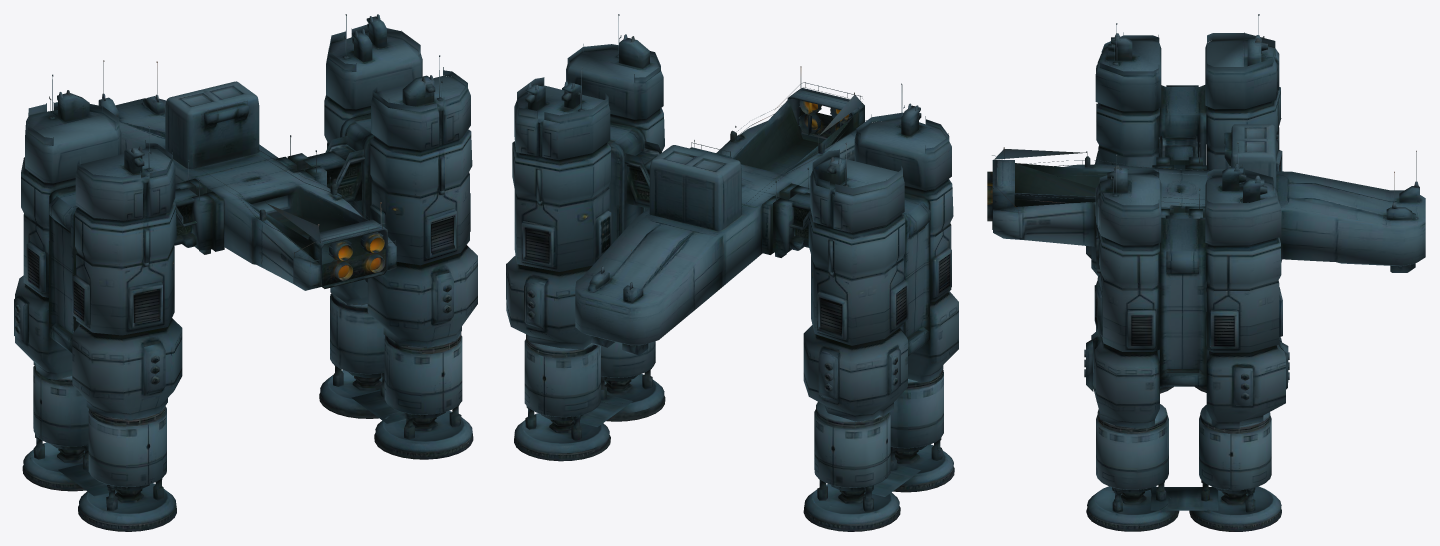
File: selected.fbx
3 views of the same model, side by side, from view 1: azimuth 30°, elevation 25°; view 2: azimuth 150°, elevation 25°; view 3: azimuth 270°, elevation 25° (orthographic). The views are drawn at different scales.
Visible parts, largest first — view 1: tripo_node_5ce6d6f5-4360-4b3c-9666-076fd8dcae07; view 2: tripo_node_5ce6d6f5-4360-4b3c-9666-076fd8dcae07; view 3: tripo_node_5ce6d6f5-4360-4b3c-9666-076fd8dcae07.
Part boxes in pixels (x1,y1,x2,y2): tripo_node_5ce6d6f5-4360-4b3c-9666-076fd8dcae07: [14, 14, 477, 531]; tripo_node_5ce6d6f5-4360-4b3c-9666-076fd8dcae07: [506, 14, 958, 531]; tripo_node_5ce6d6f5-4360-4b3c-9666-076fd8dcae07: [987, 14, 1425, 531].
Size of the model in its own units: 0.9683 by 0.9067 by 0.9995.
1 material, 1 textured.
